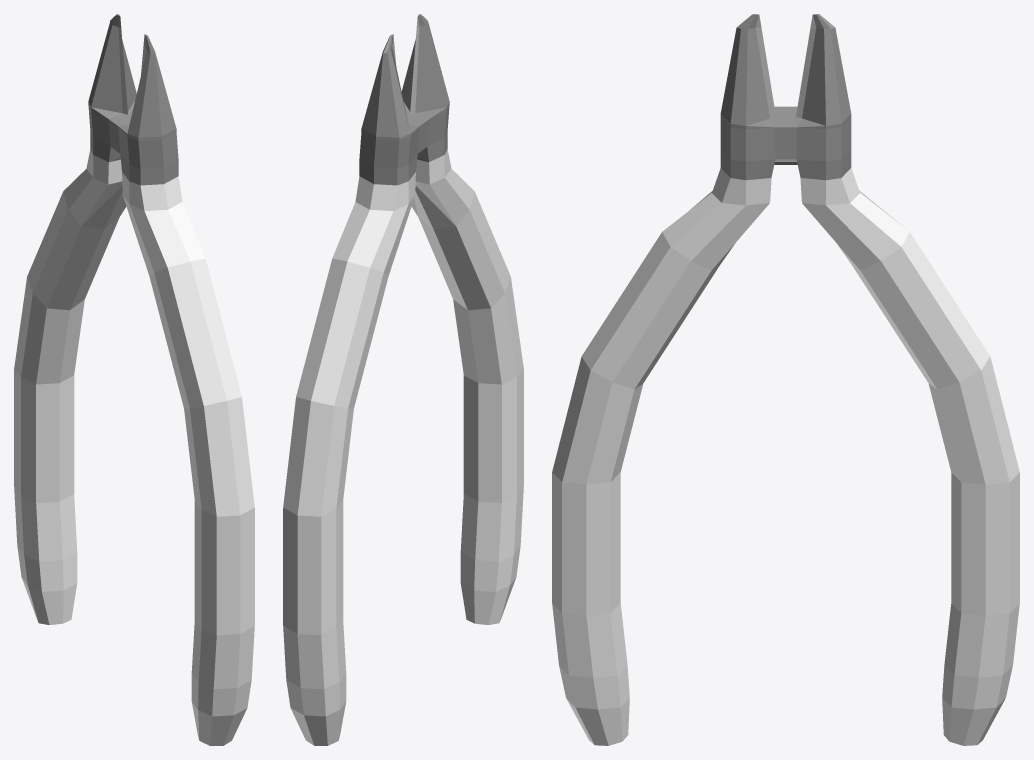
File: cutter01.obj
The picture shows the model from 3 angles, left to right: view 1: azimuth 30°, elevation 25°; view 2: azimuth 150°, elevation 25°; view 3: azimuth 270°, elevation 25°; orthographic projection. The views are drawn at different scales.
Visible parts, largest first — view 1: Cylinder; view 2: Cylinder; view 3: Cylinder.
Part boxes in pixels (left/top/right/bottom): Cylinder: left=14, top=14, right=254, bottom=745; Cylinder: left=283, top=14, right=523, bottom=745; Cylinder: left=552, top=14, right=1019, bottom=745.
Bounding box in the file's own units: 0.00825 × 0.107 × 0.0626.
1 material, 1 textured.
